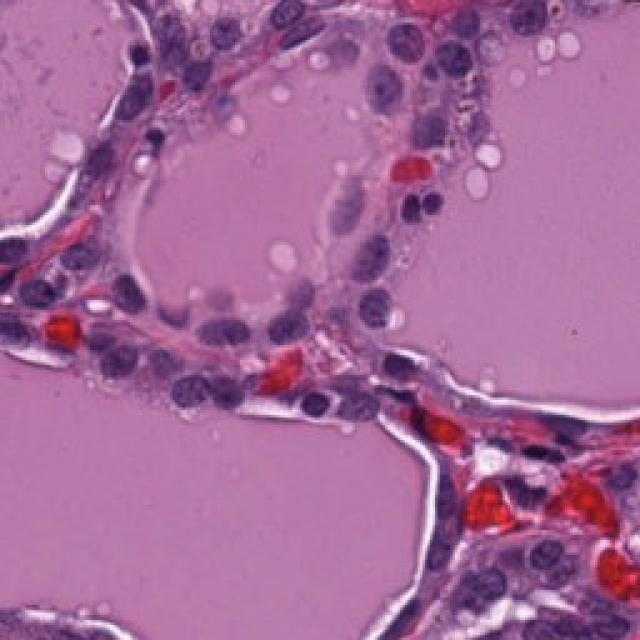normal: (90, 43, 182, 117), (182, 305, 258, 375), (335, 277, 405, 347), (202, 362, 268, 434), (191, 3, 254, 77), (351, 56, 430, 114), (335, 223, 403, 290), (153, 365, 220, 433), (55, 125, 120, 195), (91, 315, 152, 385), (330, 385, 395, 446), (384, 3, 435, 80), (45, 224, 115, 280), (253, 292, 307, 358), (18, 262, 65, 320)
